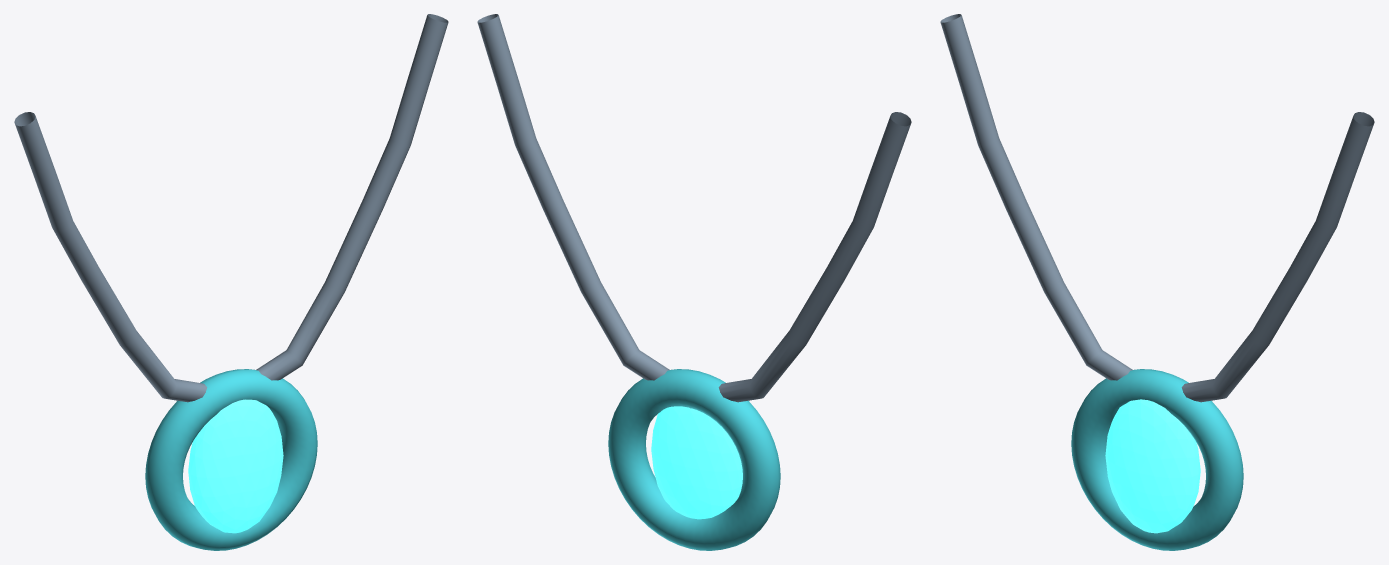
Rendered from necklace.glb.
The picture shows the model from 3 angles, left to right: view 1: azimuth 30°, elevation 25°; view 2: azimuth 150°, elevation 25°; view 3: azimuth 330°, elevation 25°; orthographic projection.
Parts seen in each view (by area): view 1: NECKLACE_CHAIN_PRIMARY, PENDANT_FRAME_ACCENT, PENDANT_GEM_EMISSIVE; view 2: NECKLACE_CHAIN_PRIMARY, PENDANT_FRAME_ACCENT, PENDANT_GEM_EMISSIVE; view 3: NECKLACE_CHAIN_PRIMARY, PENDANT_FRAME_ACCENT, PENDANT_GEM_EMISSIVE.
Boxes of the visible parts, bbox=[...] form: NECKLACE_CHAIN_PRIMARY: bbox=[14, 14, 448, 402]; PENDANT_FRAME_ACCENT: bbox=[145, 369, 317, 550]; PENDANT_GEM_EMISSIVE: bbox=[188, 399, 283, 533]; NECKLACE_CHAIN_PRIMARY: bbox=[477, 14, 911, 408]; PENDANT_FRAME_ACCENT: bbox=[608, 369, 780, 550]; PENDANT_GEM_EMISSIVE: bbox=[651, 406, 742, 519]; NECKLACE_CHAIN_PRIMARY: bbox=[940, 14, 1374, 402]; PENDANT_FRAME_ACCENT: bbox=[1071, 369, 1243, 550]; PENDANT_GEM_EMISSIVE: bbox=[1105, 399, 1200, 533].
Bounding box in the file's own units: 1.98 × 2.12 × 0.22.
